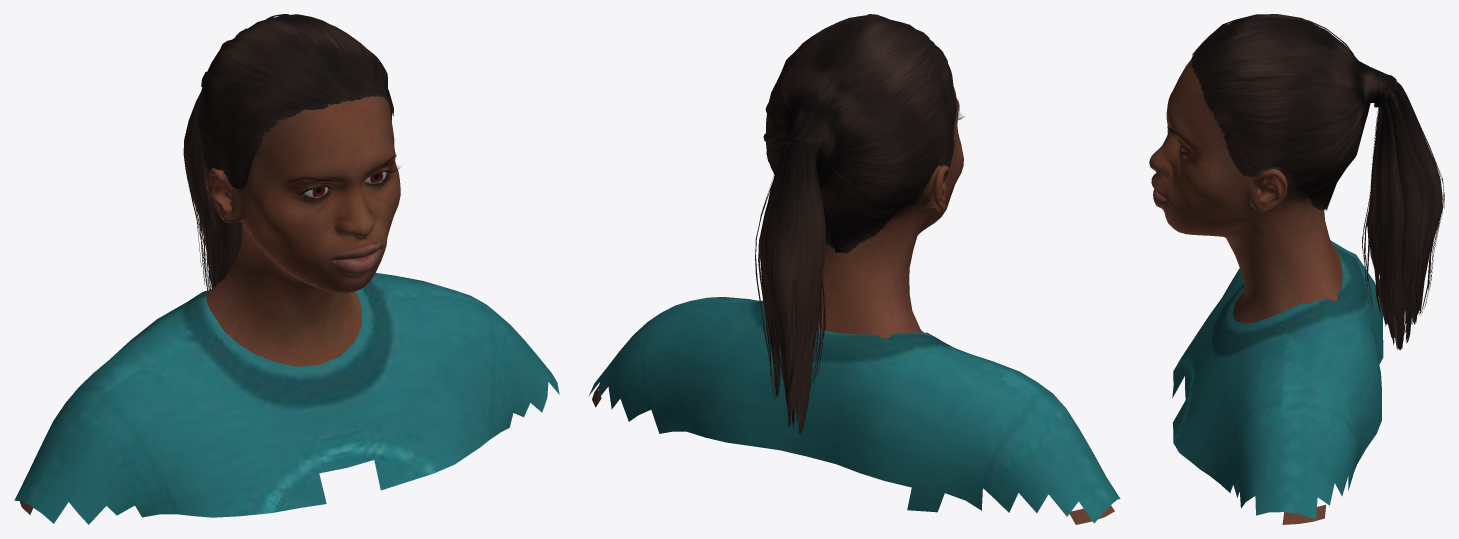
Rendered from amara.glb.
3 views of the same model, side by side, from view 1: azimuth 30°, elevation 25°; view 2: azimuth 150°, elevation 25°; view 3: azimuth 270°, elevation 25° (orthographic). The views are drawn at different scales.
Visible parts, largest first — view 1: Human.female_casualsuit01, Human, Human.ponytail01; view 2: Human.female_casualsuit01, Human.ponytail01, Human; view 3: Human.ponytail01, Human.female_casualsuit01, Human.
Part boxes in pixels (left/top/right/bottom): Human.female_casualsuit01: left=14, top=272, right=559, bottom=524; Human: left=19, top=95, right=400, bottom=514; Human.ponytail01: left=183, top=14, right=393, bottom=290; Human.female_casualsuit01: left=589, top=297, right=1120, bottom=523; Human.ponytail01: left=755, top=14, right=956, bottom=435; Human: left=592, top=87, right=1114, bottom=524; Human.ponytail01: left=1191, top=14, right=1444, bottom=350; Human.female_casualsuit01: left=1172, top=240, right=1383, bottom=519; Human: left=1149, top=59, right=1342, bottom=524.
Bounding box in the file's own units: 0.517 × 0.4091 × 0.279.
Materials: 8 (8 with a texture image).
